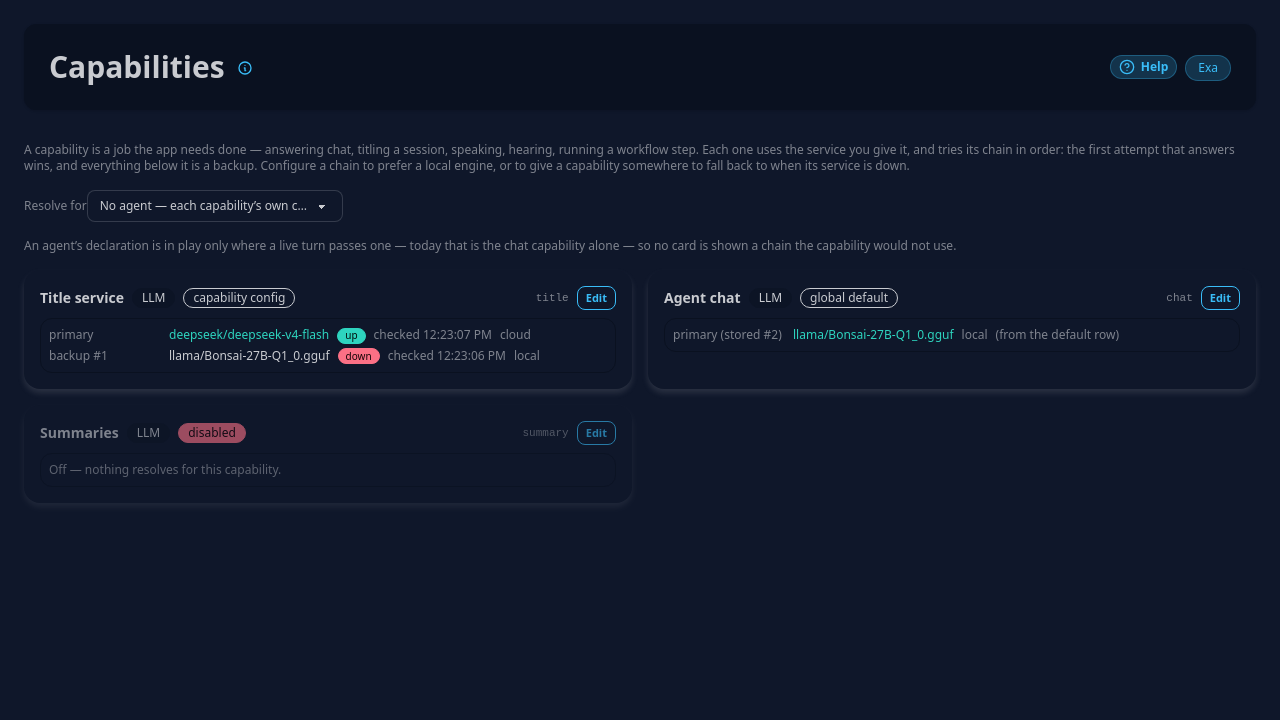
Test: ProviderCapabilities (the editor) › keeps the editor open with the server’s own refusal, so the offending attempt can be fixed
The width and height of the screenshot is (1280, 720).
Click the button "Edit" in the row of "capability config".
click(596, 298)  # box x1=577 y1=286 x2=616 y2=310
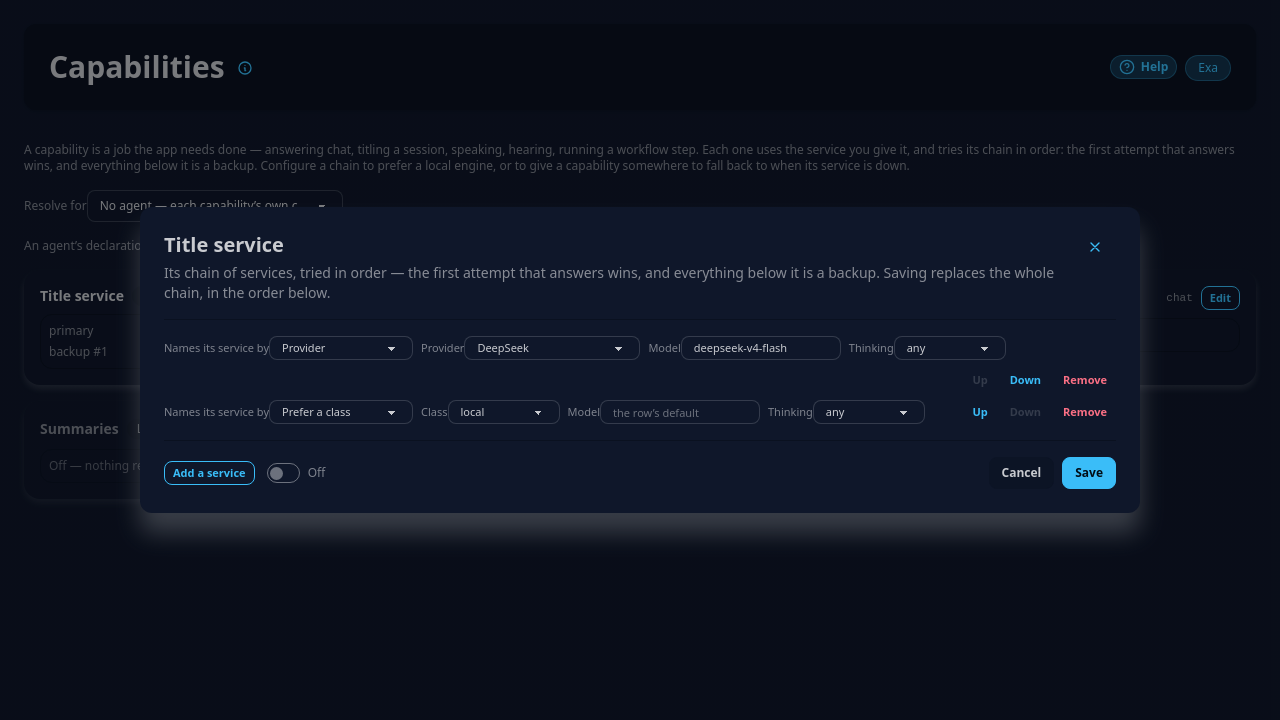
Click the button "Save".
click(1089, 473)  # box x1=1062 y1=457 x2=1116 y2=489
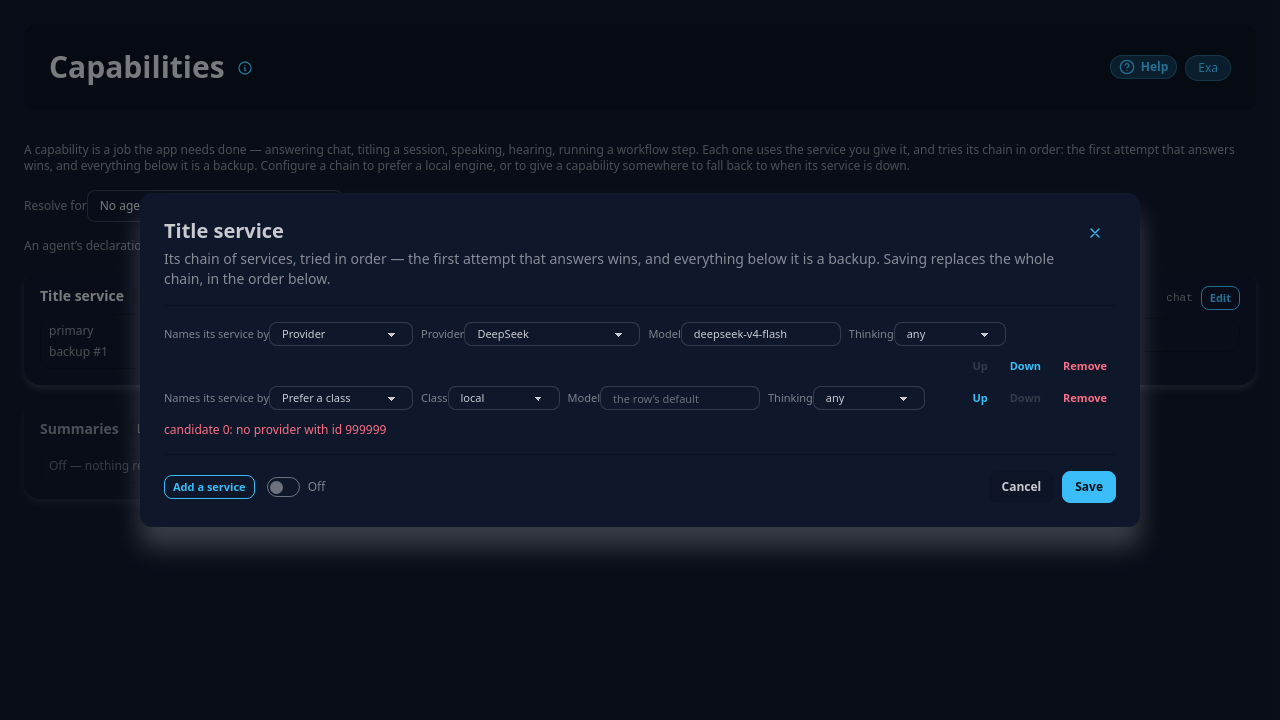
Expected: the button "Save" is shown, x1=1062 y1=471 x2=1116 y2=503
Expected: the text "candidate 0: no provider with id 999999" is shown, x1=164 y1=421 x2=386 y2=438
